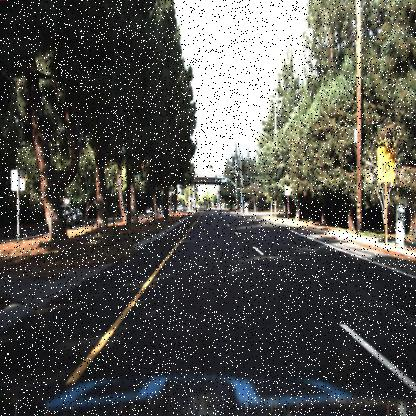car: (66, 204, 84, 230), (56, 205, 74, 230)
